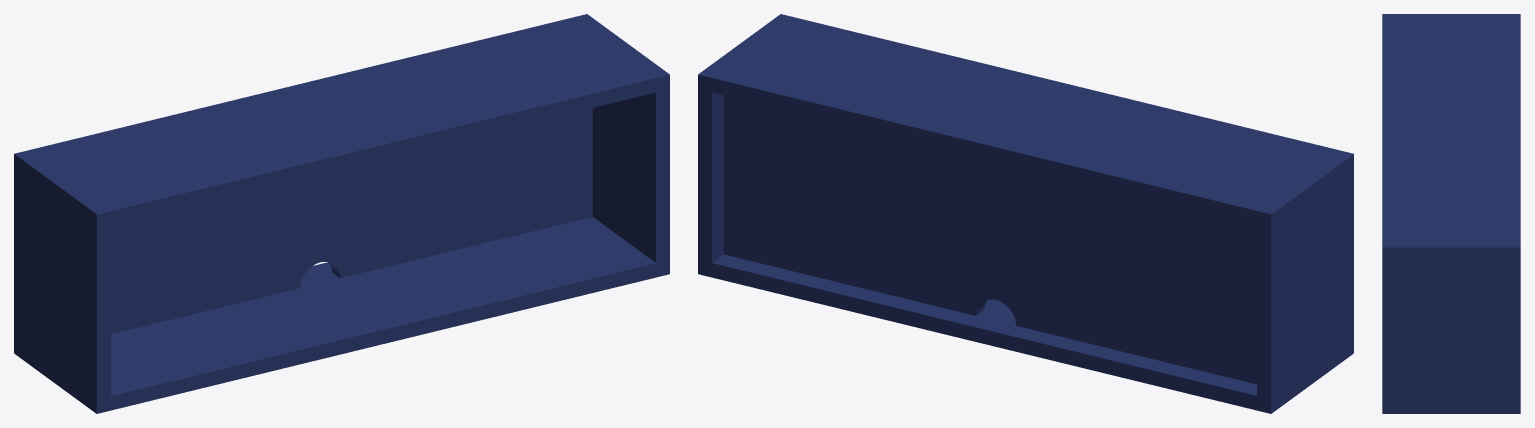
File: MODH_2X07_A_B_AP_AF.glb
3 renders of one model, left to right at view 1: azimuth 30°, elevation 25°; view 2: azimuth 150°, elevation 25°; view 3: azimuth 270°, elevation 25°, orthographic. The views are drawn at different scales.
Size of the model in its own units: 720 by 240 by 180.
